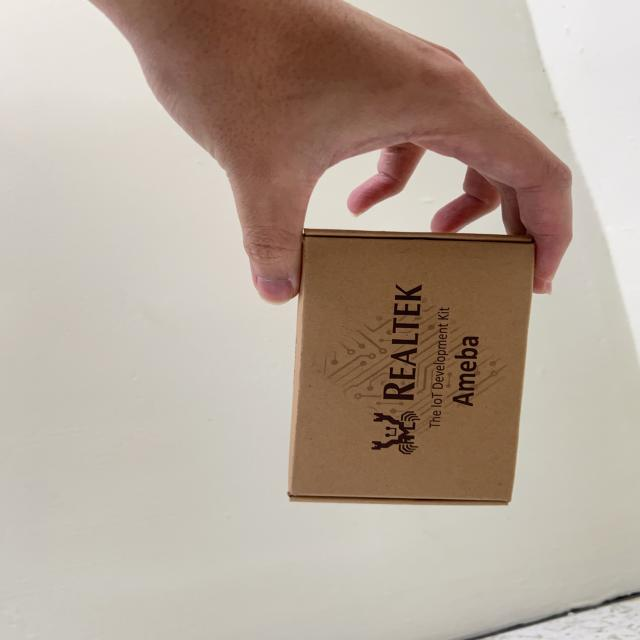box: (268, 211, 548, 520)
